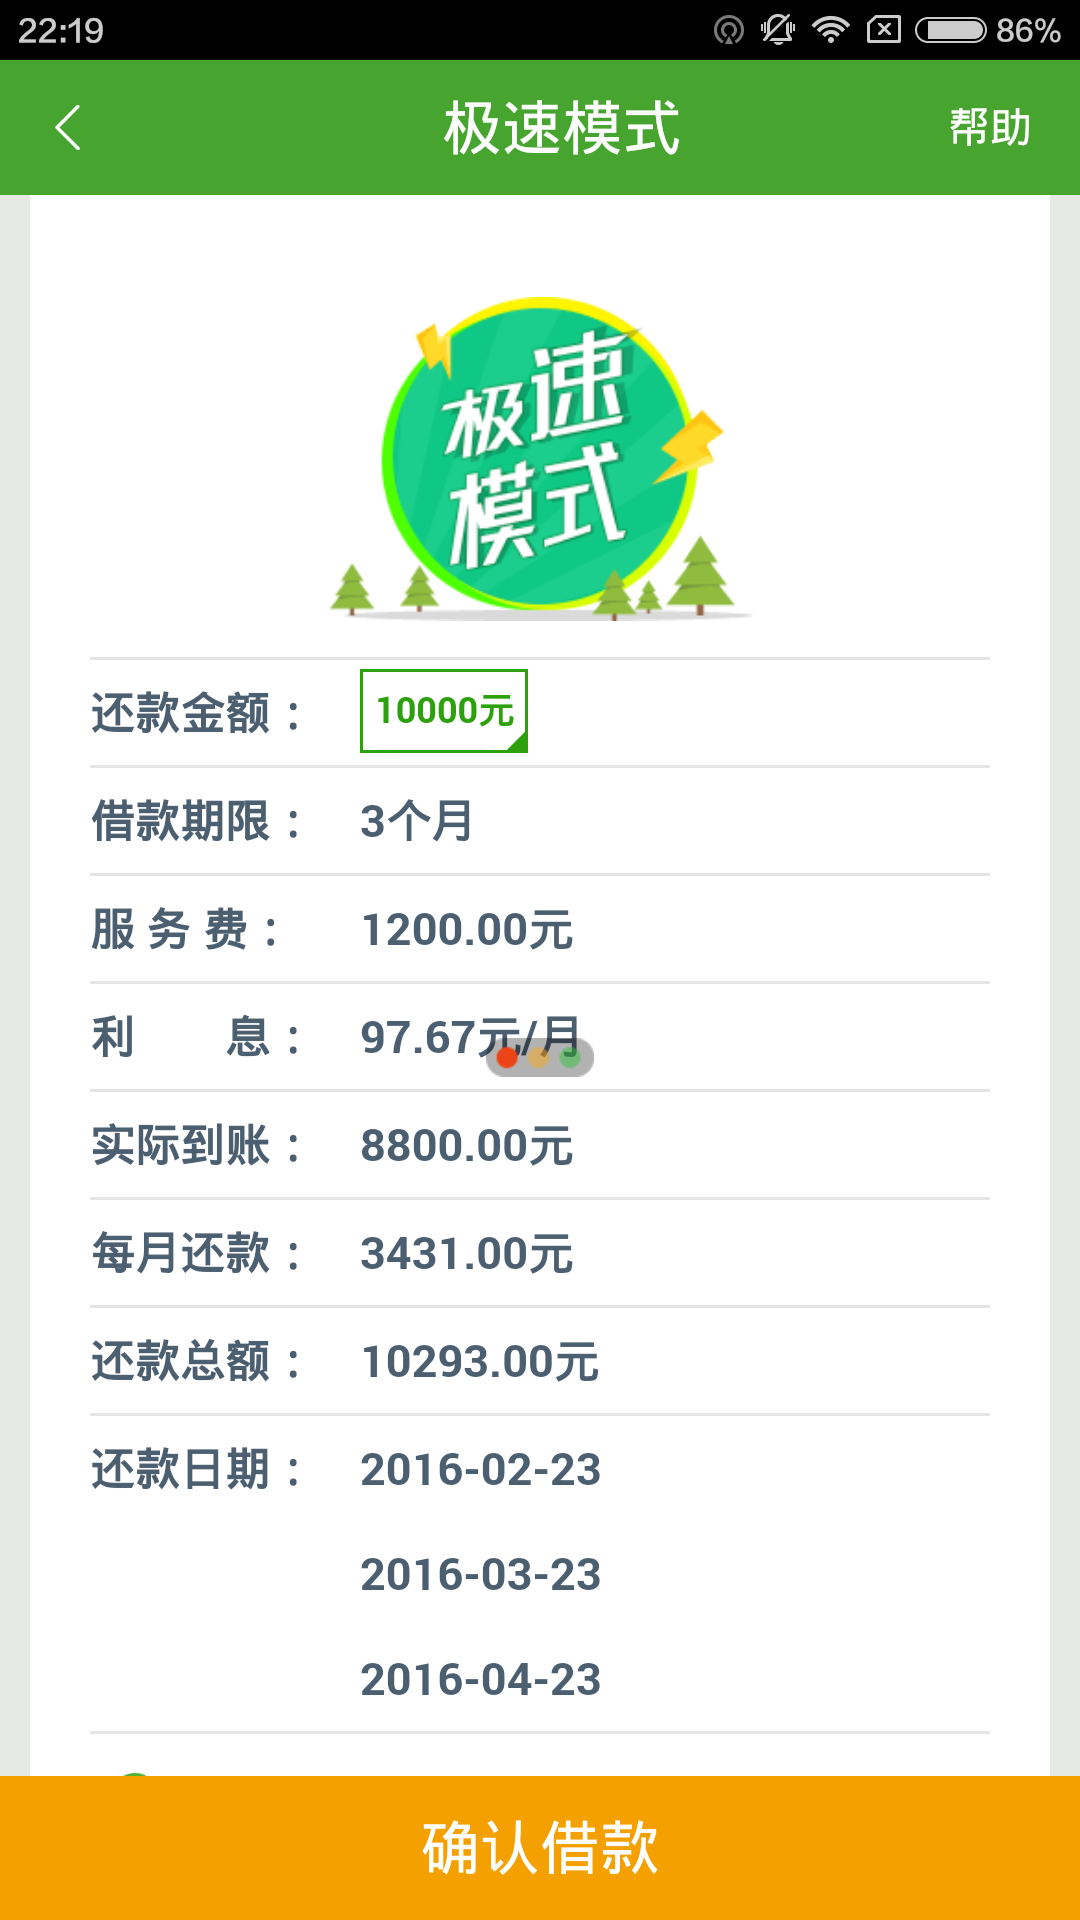button: (1, 1770, 1077, 1920)
imgview: (316, 278, 771, 629)
textview: (51, 637, 1011, 1751)
